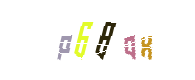6: (57, 0, 137, 80)
8: (60, 0, 140, 80)
P: (42, 0, 122, 80)
Q: (65, 0, 145, 80)
X: (106, 0, 186, 80)
